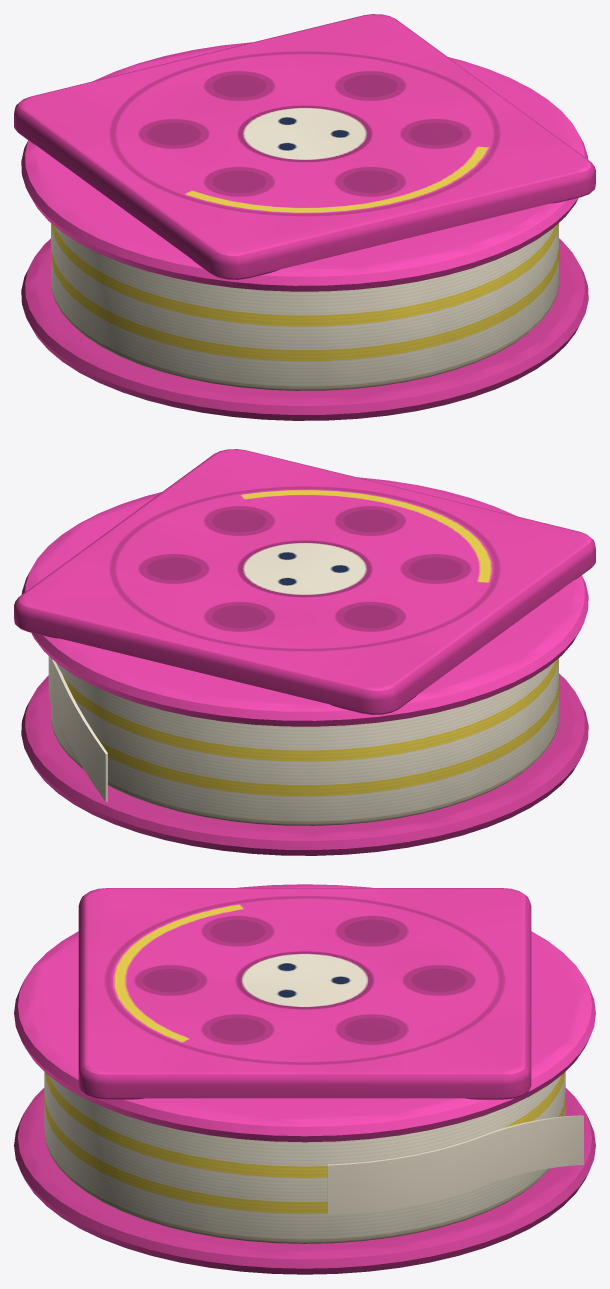
The model's file is reception_tape_reel.glb.
3 views of the same model, one above another, from view 1: azimuth 30°, elevation 25°; view 2: azimuth 150°, elevation 25°; view 3: azimuth 270°, elevation 25° (orthographic). The views are drawn at different scales.
Visible parts, largest first — view 1: reception_tape_reel_LOD0; view 2: reception_tape_reel_LOD0; view 3: reception_tape_reel_LOD0.
Boxes of the visible parts, x1,y1,x2,y2 form: reception_tape_reel_LOD0: (14,14,595,420); reception_tape_reel_LOD0: (14,449,595,855); reception_tape_reel_LOD0: (14,884,595,1274).
Bounding box in the file's own units: 9 × 3 × 9.
Materials: 1 (1 with a texture image).
